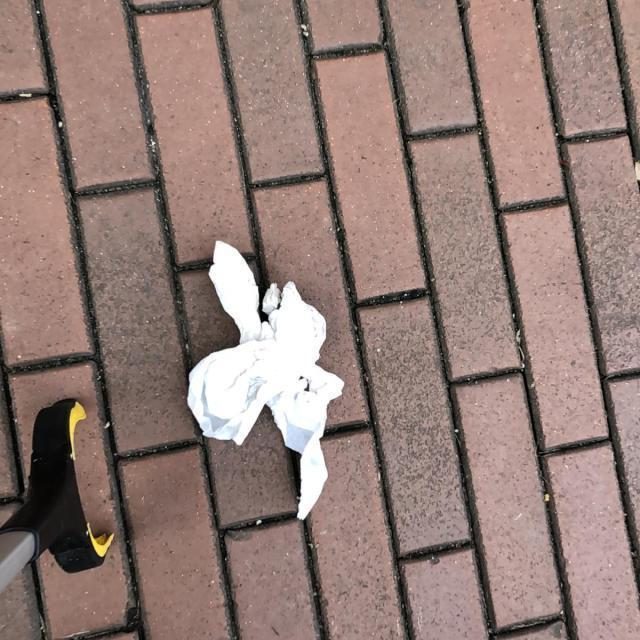Paper: (187, 237, 346, 523)
